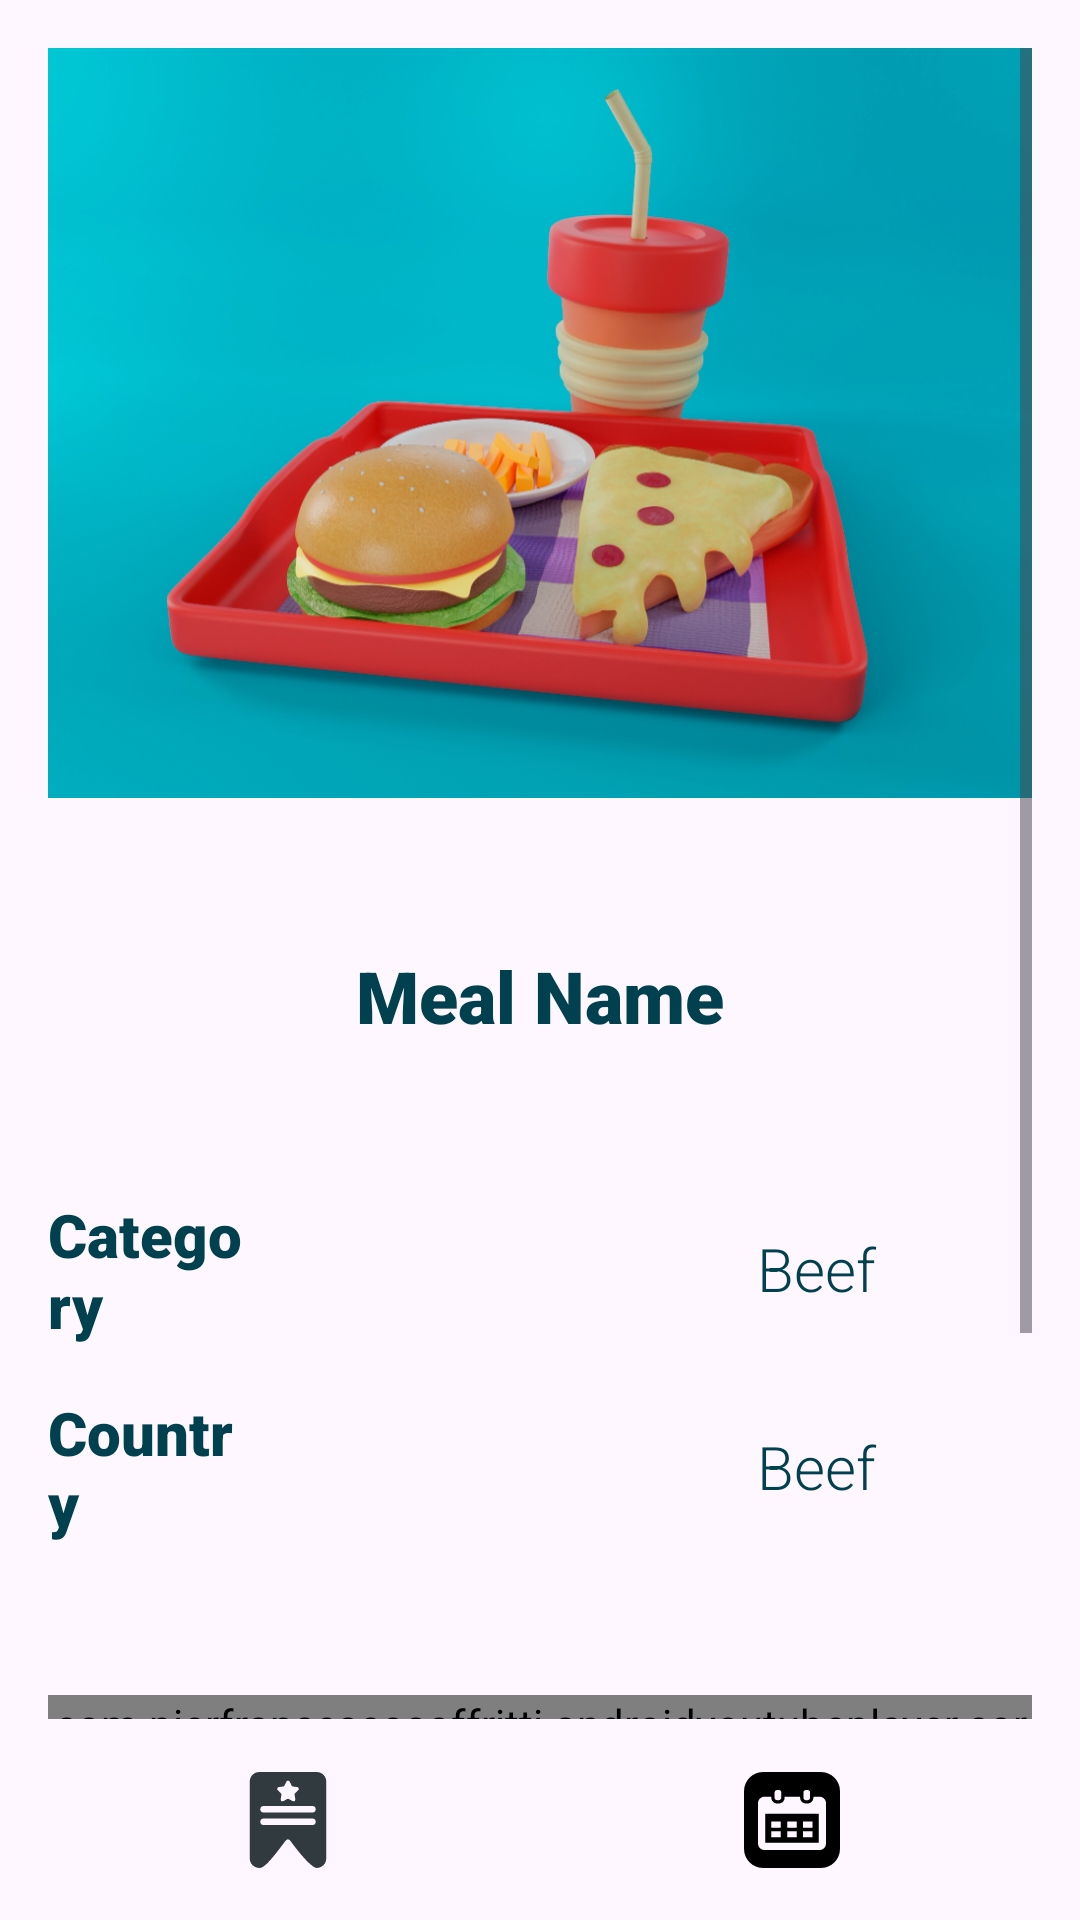

Locate icon controls on the screen. Image size 1080w x 1920h, boxes as (x1, y1, x2, y2).
Add To Plan: (744, 1772, 840, 1868)
Favourite: (249, 1772, 327, 1868)
